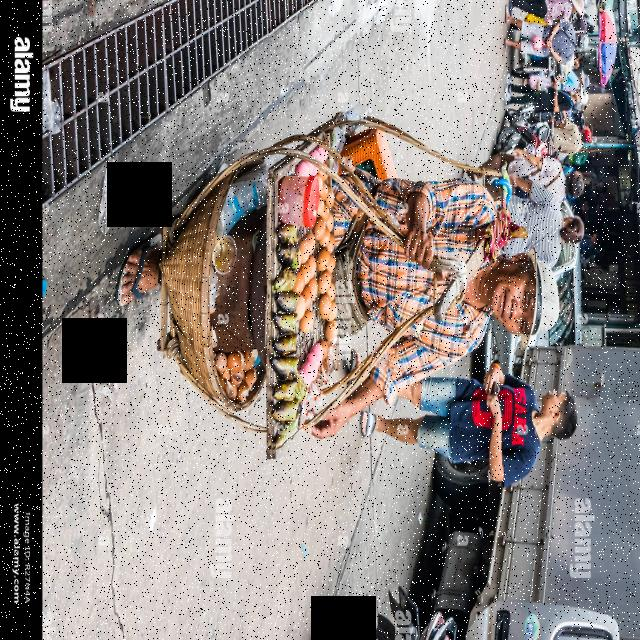food-booth: (114, 118, 557, 455)
